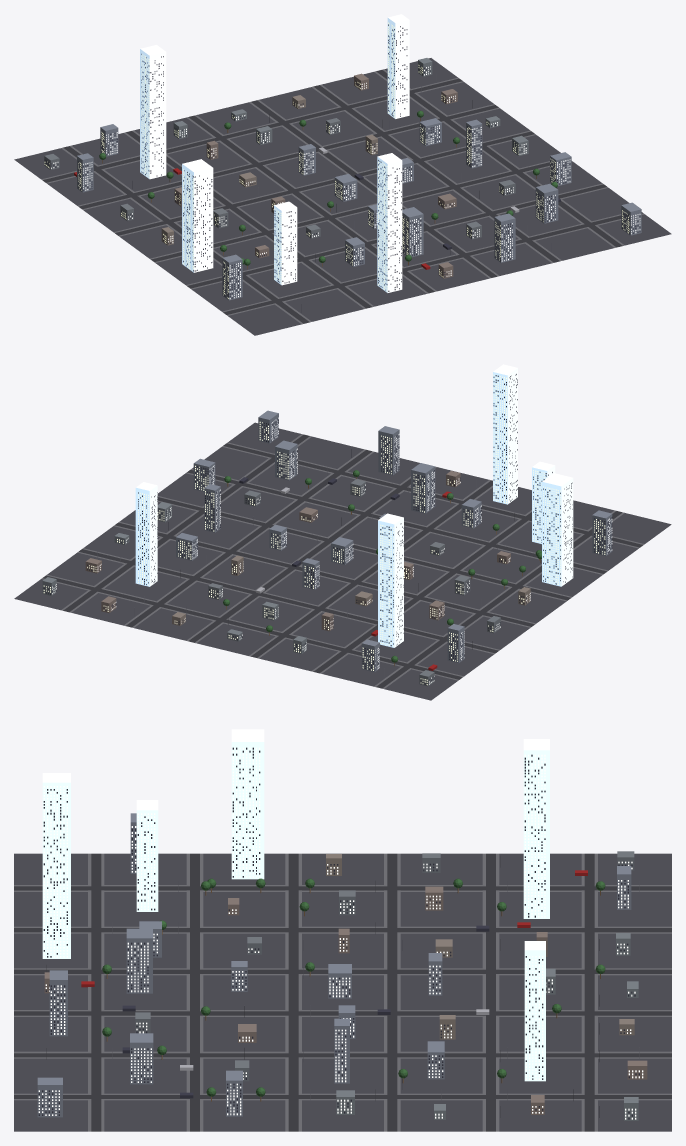
Rendered from glitch_city.glb.
The picture shows the model from 3 angles, top to bottom: view 1: azimuth 30°, elevation 25°; view 2: azimuth 150°, elevation 25°; view 3: azimuth 270°, elevation 25°; orthographic projection. The views are drawn at different scales.
Visible parts, largest first — view 1: Ground, T1, T2, T0, T3, T4, RdV45, RdH-75, RdV-15, RdH45, RdH75, WOn_-27_-86 (+40 smaller); view 2: Ground, T0, T2, T1, T3, RdV45, RdH75, RdV-15, RdH45, RdV15, RdH-45, RdH-15 (+35 smaller); view 3: Ground, T1, T0, T2, T3, RdV45, RdV-45, RdH-75, RdH-15, RdH15, RdH75, RdV15 (+45 smaller).
Part boxes in pixels (x1,y1,x2,y2): Ground: [14, 58, 671, 335]; T1: [377, 153, 402, 292]; T2: [140, 45, 166, 179]; T0: [182, 159, 213, 272]; T3: [387, 14, 409, 118]; T4: [274, 201, 297, 285]; RdV45: [313, 85, 559, 262]; RdH-75: [223, 212, 642, 314]; RdV-15: [188, 115, 434, 293]; RdH45: [79, 105, 498, 209]; RdH75: [42, 78, 462, 182]; WOn_-27_-86: [378, 162, 401, 291]; Ground: [14, 422, 671, 700]; T0: [542, 473, 573, 586]; T2: [378, 513, 403, 647]; T1: [493, 364, 517, 504]; T3: [135, 482, 157, 586]; RdV45: [126, 450, 371, 627]; RdH75: [42, 575, 462, 679]; RdV-15: [251, 480, 492, 657]; RdH45: [79, 549, 498, 653]; RdV15: [188, 478, 410, 642]; RdH-45: [187, 469, 607, 573]; RdH-15: [157, 497, 570, 600]; Ground: [14, 853, 671, 1131]; T1: [42, 773, 70, 958]; T0: [231, 729, 264, 879]; T2: [523, 739, 549, 918]; T3: [524, 941, 545, 1081]; RdV45: [14, 1053, 671, 1057]; RdV-45: [14, 928, 671, 932]; RdH-75: [91, 853, 101, 1131]; RdH-15: [288, 853, 298, 1131]; RdH15: [387, 853, 397, 1131]; RdH75: [584, 853, 594, 1131]; RdV15: [14, 1011, 671, 1015].
Size of the model in its own units: 200 by 59.16 by 200.
